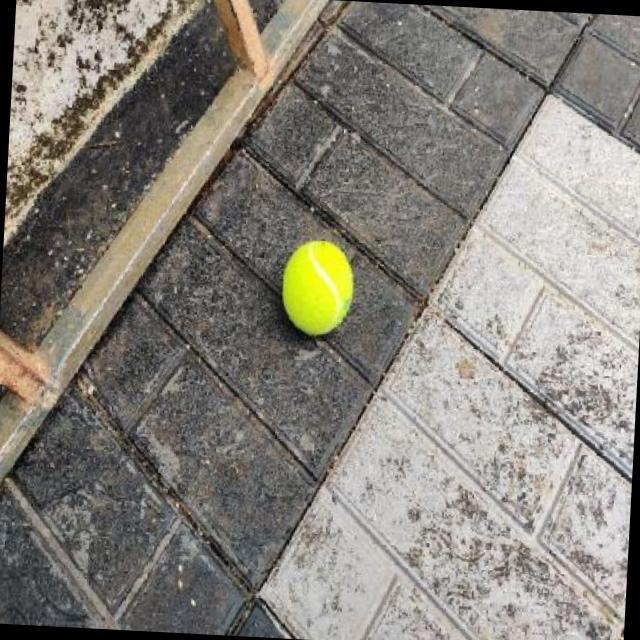-: (260, 223, 369, 365)
